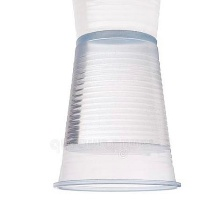glass: (46, 28, 188, 198)
